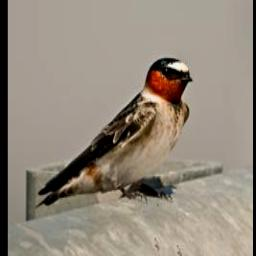Swallow: (34, 54, 195, 207)
